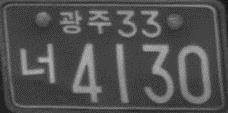0: (177, 43, 213, 106)
1: (114, 42, 131, 105)
3: (139, 42, 175, 103), (115, 8, 138, 37), (139, 9, 161, 38)
4: (70, 41, 104, 104)
광주_O: (58, 8, 112, 34)
너: (18, 40, 56, 86)
